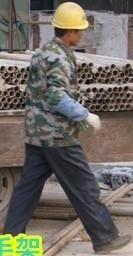boots: (93, 231, 132, 253)
gloves: (53, 92, 103, 131)
hard-hat: (50, 1, 89, 30)
